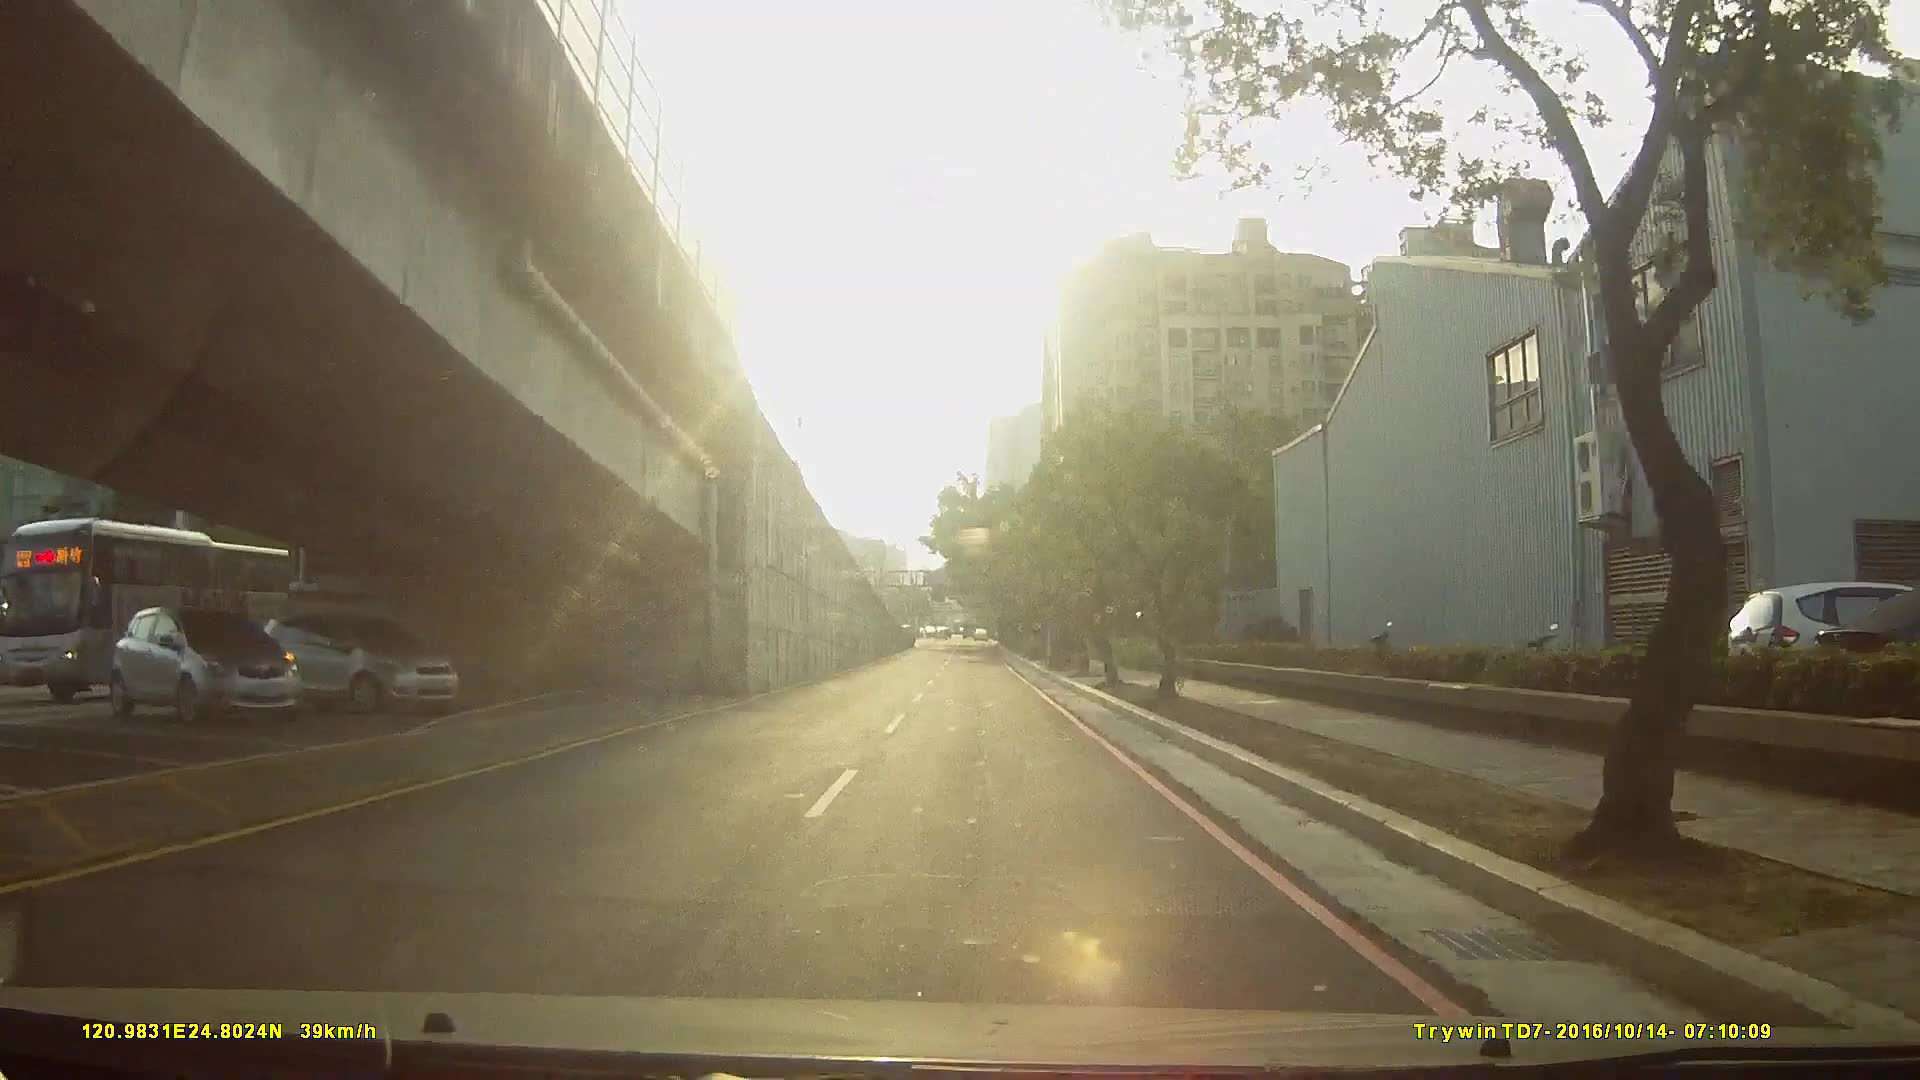vehicle: (5, 509, 309, 709), (233, 609, 473, 717), (96, 600, 287, 727)
